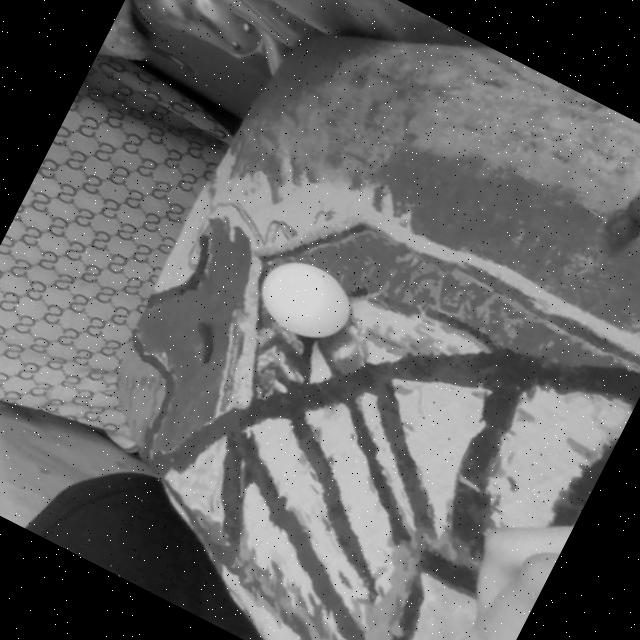ping-pong-ball: (252, 252, 360, 352)
